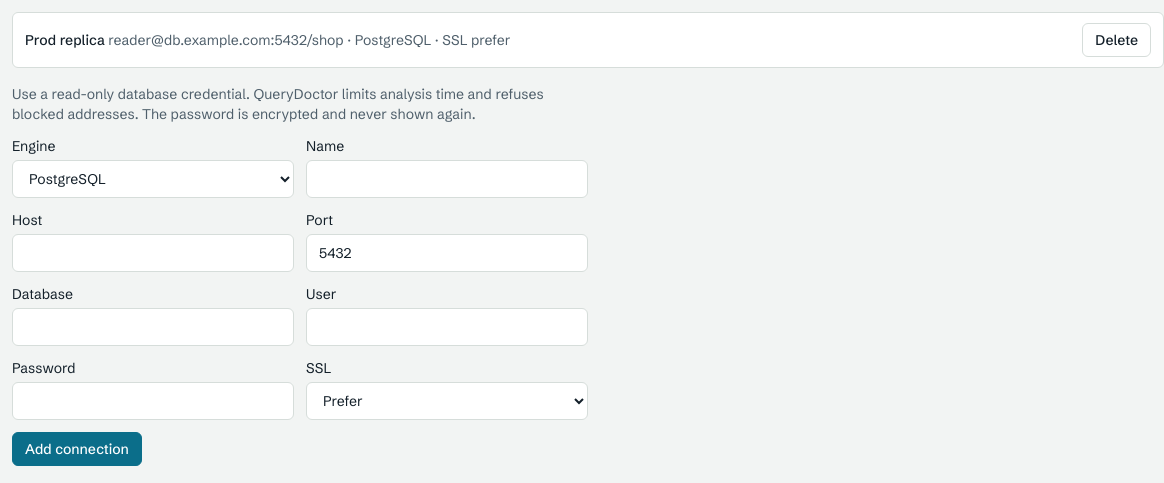
ConnectionsPanel › asks for confirmation before deleting and then removes the connection
Click the button with aria-label "delete prod replica". click: (1117, 40)
box: x1=1082 y1=23 x2=1151 y2=57
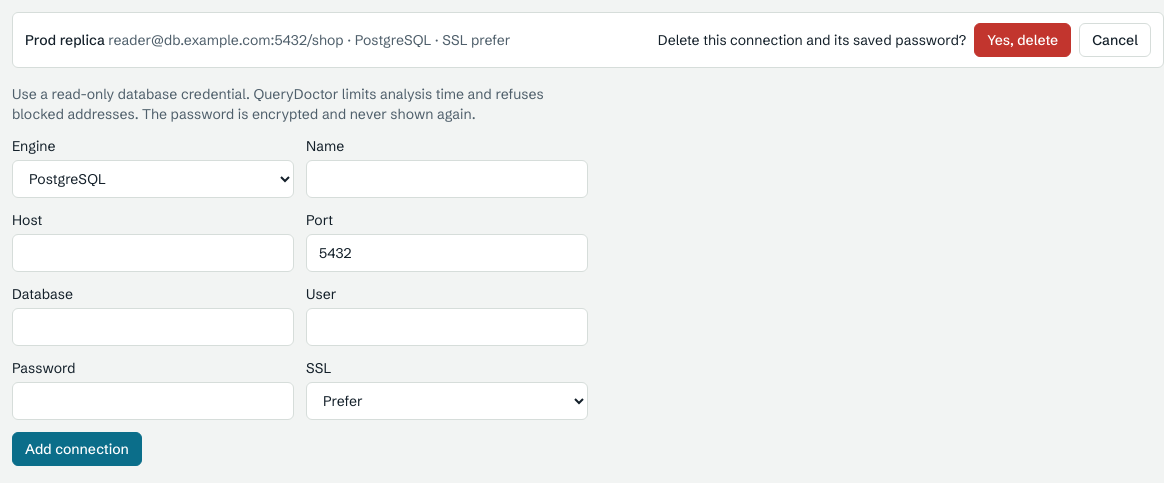
expect the text "Delete this connection and its saved password?" is shown: met, box x1=658 y1=30 x2=966 y2=50
Click the button "Cancel". click: (1115, 40)
box: x1=1079 y1=23 x2=1151 y2=57
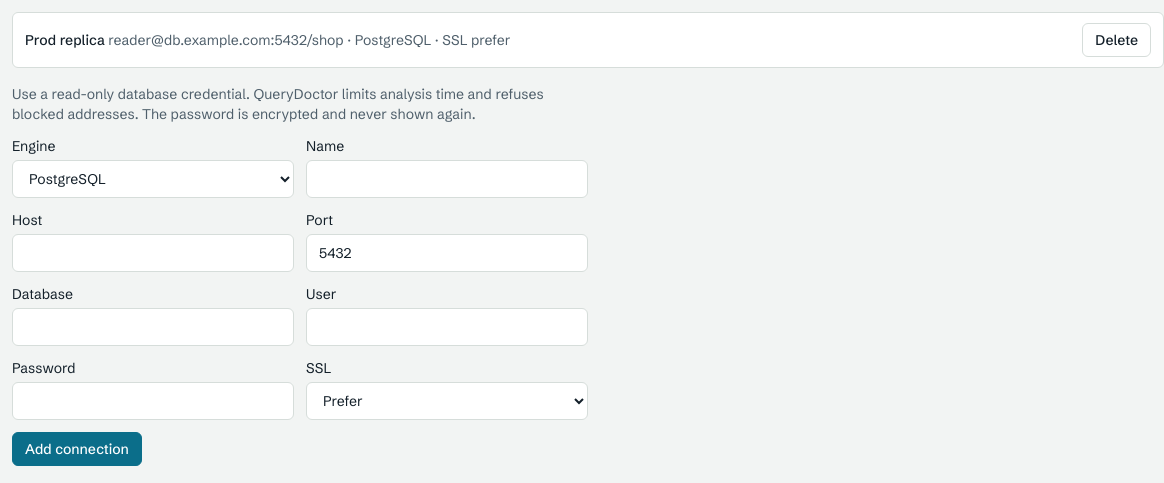
expect the text "saved password" is gone: met
Click the button with aria-label "delete prod replica". click: (1117, 40)
box: x1=1082 y1=23 x2=1151 y2=57
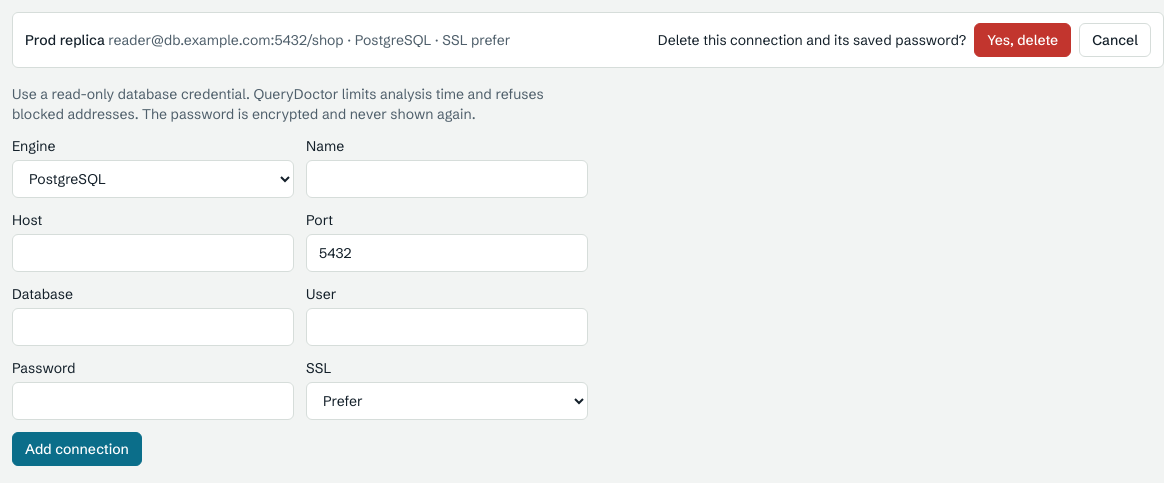
Click the button "Yes, delete". click: (1023, 40)
box: x1=974 y1=23 x2=1071 y2=57
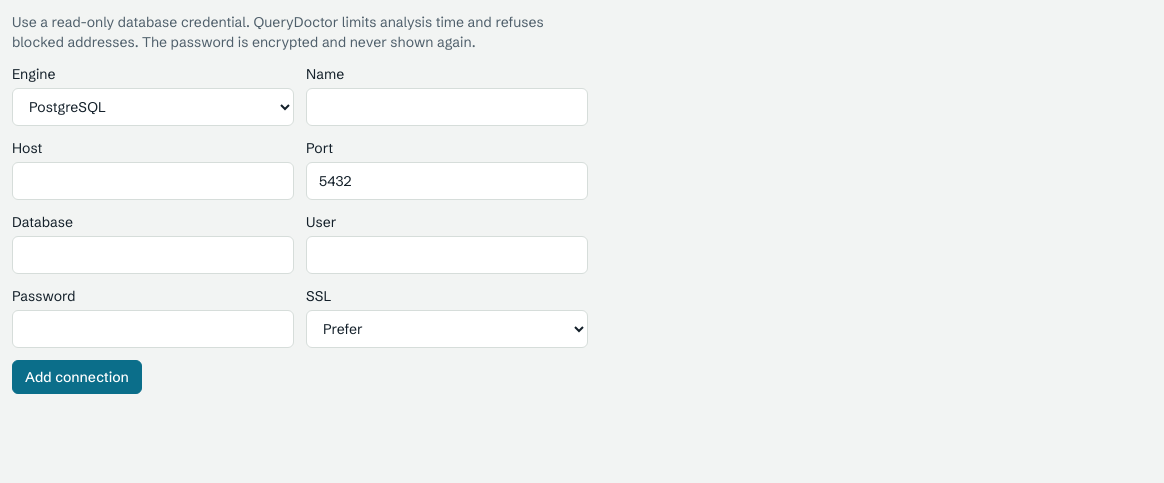
expect the text "Prod replica" is gone: met
